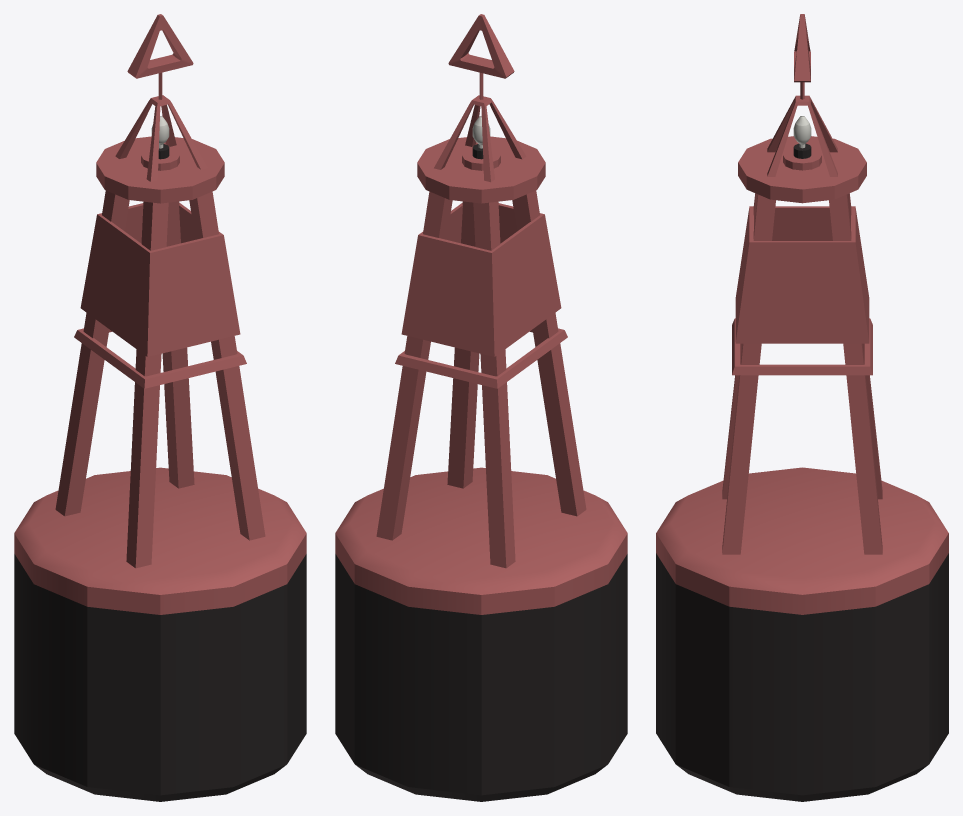
Rendered from Buoys_Triangulo.fbx.
3 views of the same model, side by side, from view 1: azimuth 30°, elevation 25°; view 2: azimuth 150°, elevation 25°; view 3: azimuth 270°, elevation 25° (orthographic).
Parts seen in each view (by area): view 1: BuoyPe, BuoyApoio2, BuoyApoio, BuoyTriangulo; view 2: BuoyPe, BuoyApoio2, BuoyApoio, BuoyTriangulo; view 3: BuoyPe, BuoyApoio2, BuoyApoio, BuoyTriangulo.
Part boxes in pixels (x1,y1,x2,y2): BuoyPe: (14, 467, 306, 801); BuoyApoio2: (74, 136, 246, 388); BuoyApoio: (55, 95, 265, 568); BuoyTriangulo: (127, 14, 193, 78); BuoyPe: (335, 467, 627, 801); BuoyApoio2: (395, 136, 567, 388); BuoyApoio: (376, 95, 586, 568); BuoyTriangulo: (448, 14, 514, 78); BuoyPe: (656, 467, 948, 801); BuoyApoio2: (732, 136, 872, 375); BuoyApoio: (722, 95, 882, 554); BuoyTriangulo: (794, 14, 810, 82).
Size of the model in its own units: 1.59 by 4.39 by 1.59.
